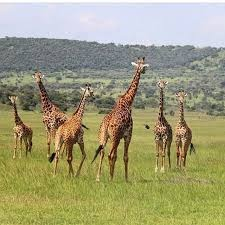giraffe: (91, 54, 151, 184), (47, 81, 96, 180), (30, 67, 77, 161), (7, 92, 37, 164), (151, 78, 173, 173), (173, 87, 195, 169)
